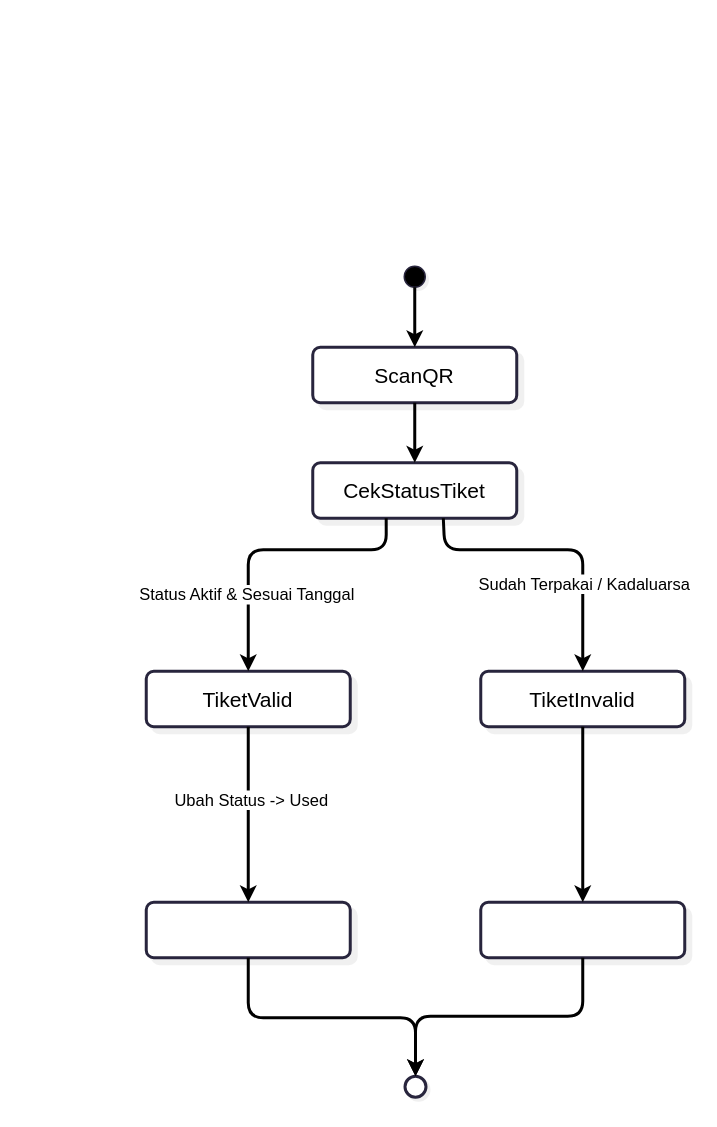
Image size: 717x1127. Some labels were removed from this diagram. The shapes that lost their labels are listed below. From the top down, each one's centre as x and y in pixels, then its label:
At pixel 250 932: "OpenGate".
At pixel 585 932: "TolakAkses".
